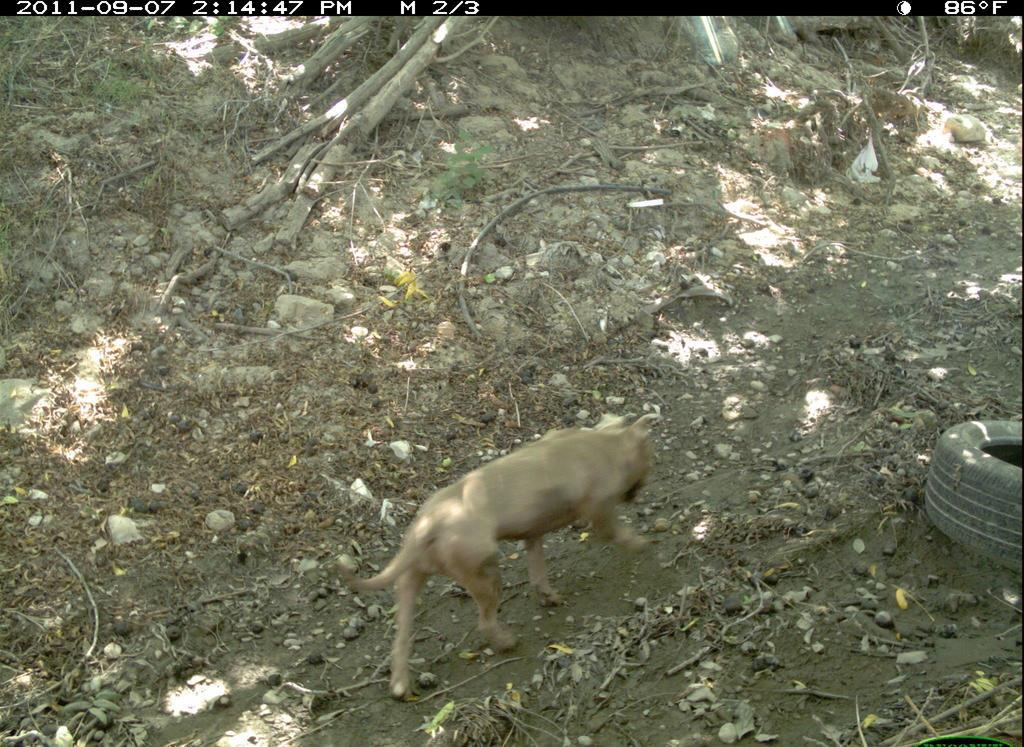dog: (328, 406, 673, 702)
